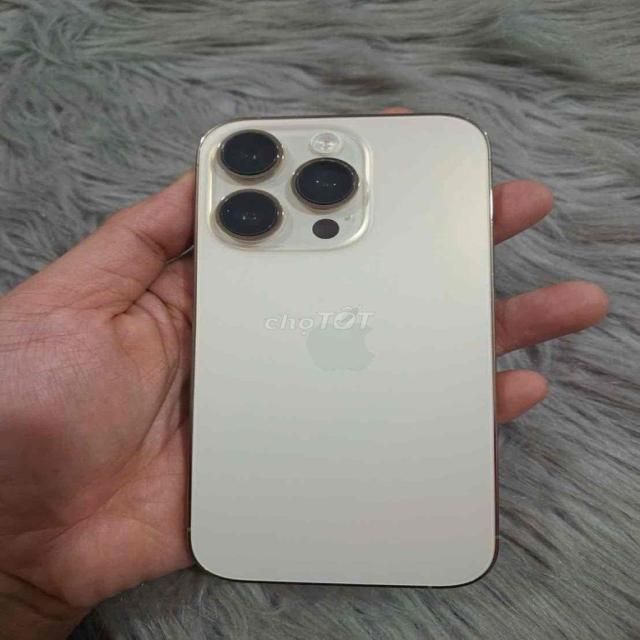gen_14: (167, 104, 530, 595)
